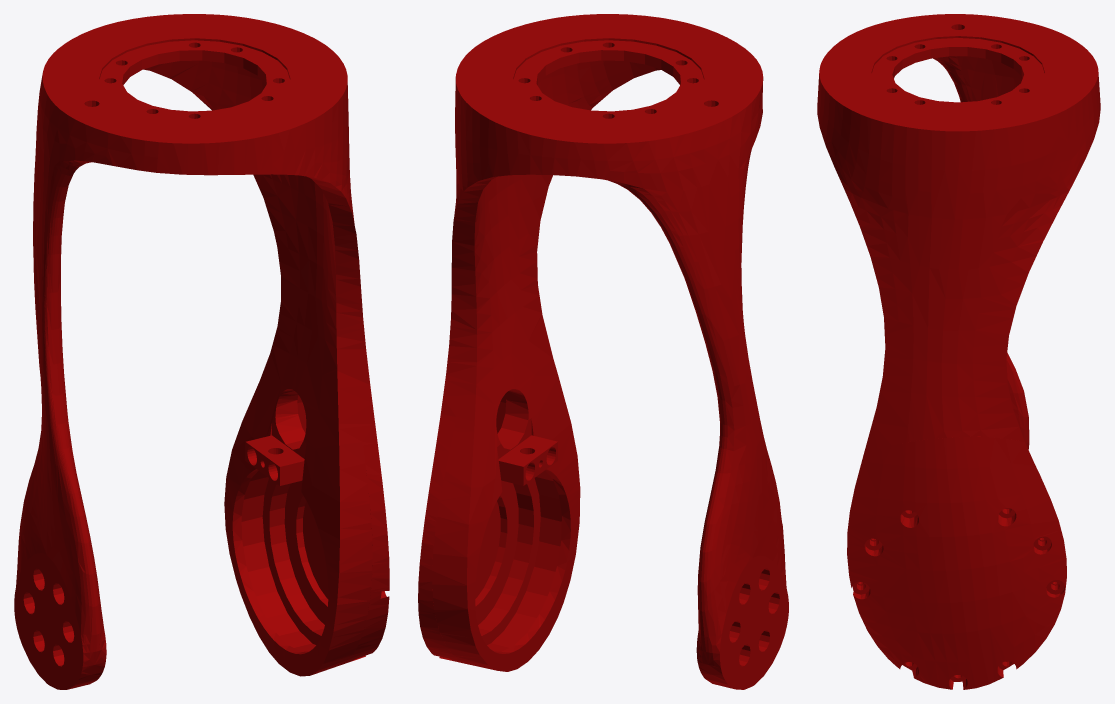
File: R_forearm.obj
3 views of the same model, side by side, from view 1: azimuth 30°, elevation 25°; view 2: azimuth 150°, elevation 25°; view 3: azimuth 270°, elevation 25° (orthographic). The views are drawn at different scales.
Visible parts, largest first — view 1: R_forearm; view 2: R_forearm; view 3: R_forearm.
Part boxes in pixels (left/top/right/bottom): R_forearm: left=14, top=14, right=389, bottom=689; R_forearm: left=418, top=14, right=788, bottom=689; R_forearm: left=817, top=14, right=1100, bottom=689.
Bounding box in the file's own units: 0.0919 × 0.1758 × 0.0817.
